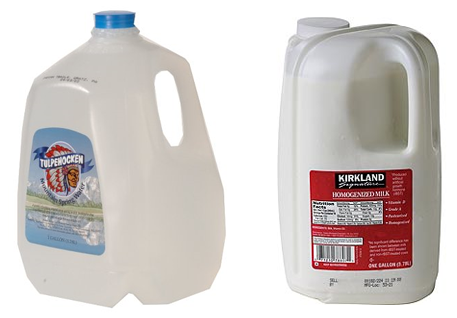Rec_Plastic: (6, 1, 240, 305), (278, 14, 443, 303)
